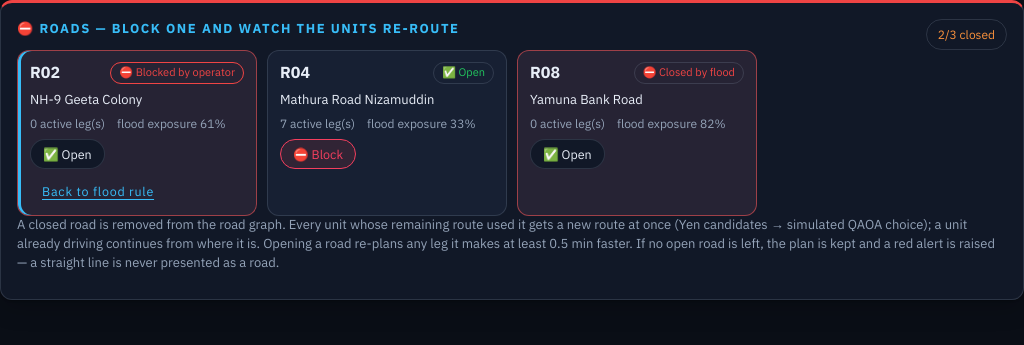
Scenario: road control panel (F1) › blocks a road through the backend and reports the re-plan
The width and height of the screenshot is (1024, 345).
What coordinates should you click on to do the following:
click the button "⛔ Block"
I would click on:
 (318, 154)
Its box is [280, 139, 356, 169].
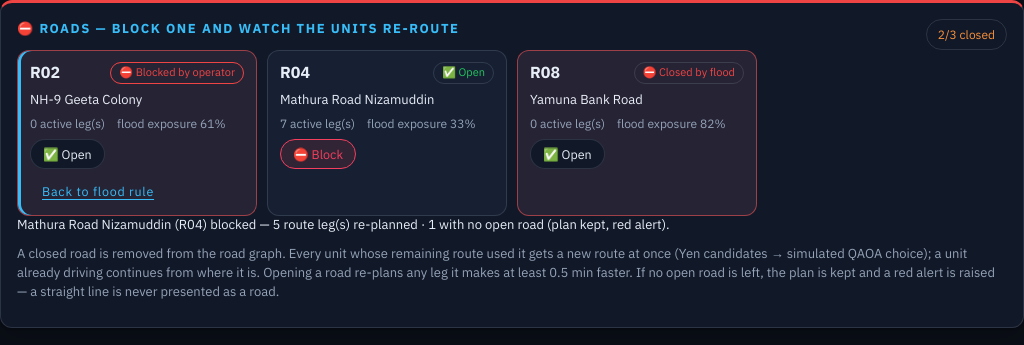
Check: the text "5 route leg(s) re-planned · 1 with no open road" is shown, box [17, 216, 670, 233]
